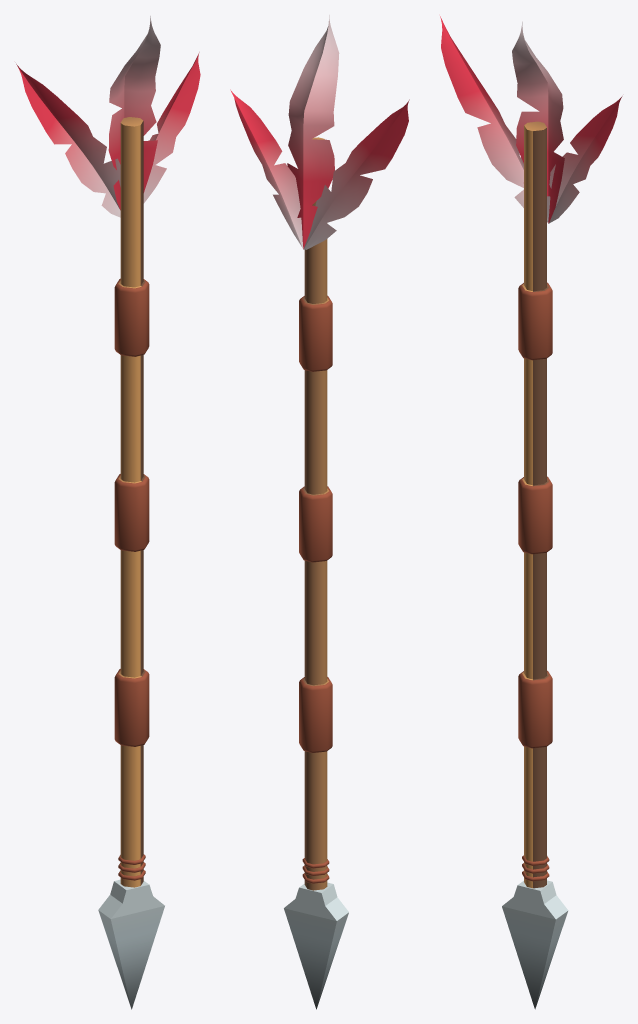
Rendered from Spear .fbx.
3 views of the same model, side by side, from view 1: azimuth 30°, elevation 25°; view 2: azimuth 150°, elevation 25°; view 3: azimuth 330°, elevation 25° (orthographic). The views are drawn at different scales.
Parts seen in each view (by area): view 1: Cube.012; view 2: Cube.012; view 3: Cube.012.
Part boxes in pixels (<box>): Cube.012: <box>16,16,200,1009</box>; Cube.012: <box>230,15,409,1009</box>; Cube.012: <box>440,16,622,1009</box>.
Size of the model in its own units: 0.281 by 1.46 by 0.0704.
